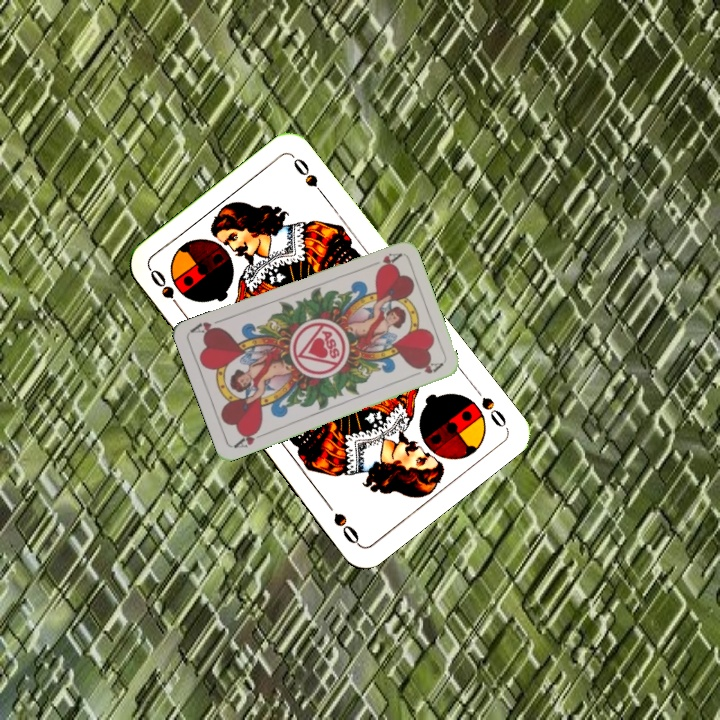HA: (230, 425, 269, 451), (363, 249, 403, 272)
SO: (468, 381, 510, 431), (146, 265, 187, 316)
